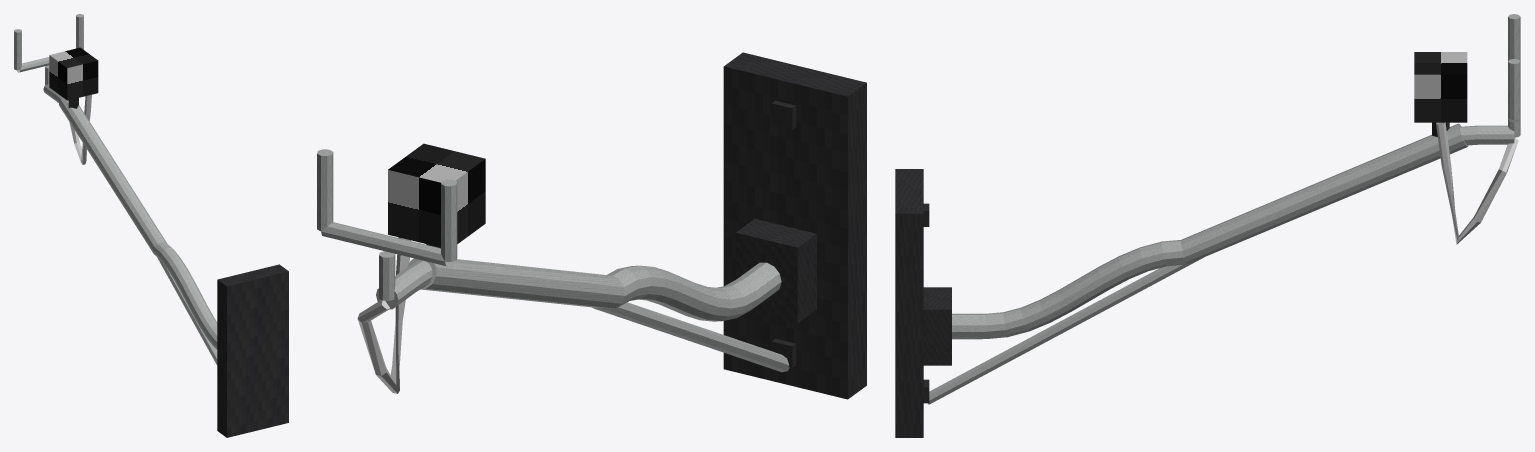
Rendered from arm_2_straight_flood_up_wired.obj.
3 renders of one model, left to right at view 1: azimuth 30°, elevation 25°; view 2: azimuth 150°, elevation 25°; view 3: azimuth 270°, elevation 25°, orthographic. The views are drawn at different scales.
Parts seen in each view (by area): view 1: pole_light_mount_2_straight_flood_up_wired; view 2: pole_light_mount_2_straight_flood_up_wired; view 3: pole_light_mount_2_straight_flood_up_wired.
Part boxes in pixels (bbox=[...]): pole_light_mount_2_straight_flood_up_wired: bbox=[14, 14, 288, 437]; pole_light_mount_2_straight_flood_up_wired: bbox=[317, 52, 866, 399]; pole_light_mount_2_straight_flood_up_wired: bbox=[895, 14, 1520, 437].
Bounding box in the file's own units: 0.419 × 1.47 × 2.21.
